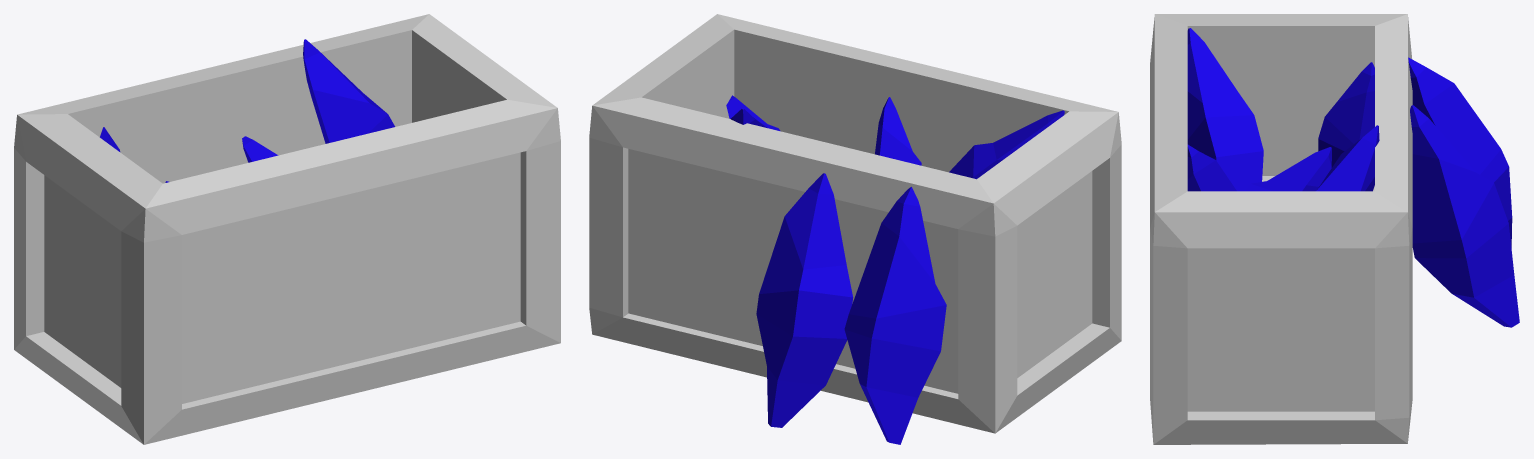
Rendered from caja_con_cristales_Baja.fbx.
3 renders of one model, left to right at view 1: azimuth 30°, elevation 25°; view 2: azimuth 150°, elevation 25°; view 3: azimuth 270°, elevation 25°, orthographic. The views are drawn at different scales.
Visible parts, largest first — view 1: baja1.004; view 2: baja1.004; view 3: baja1.004.
Boxes of the visible parts, bbox=[...] form: baja1.004: bbox=[14, 14, 560, 444]; baja1.004: bbox=[589, 14, 1121, 444]; baja1.004: bbox=[1150, 14, 1519, 444].
Size of the model in its own units: 712 by 406 by 541.
